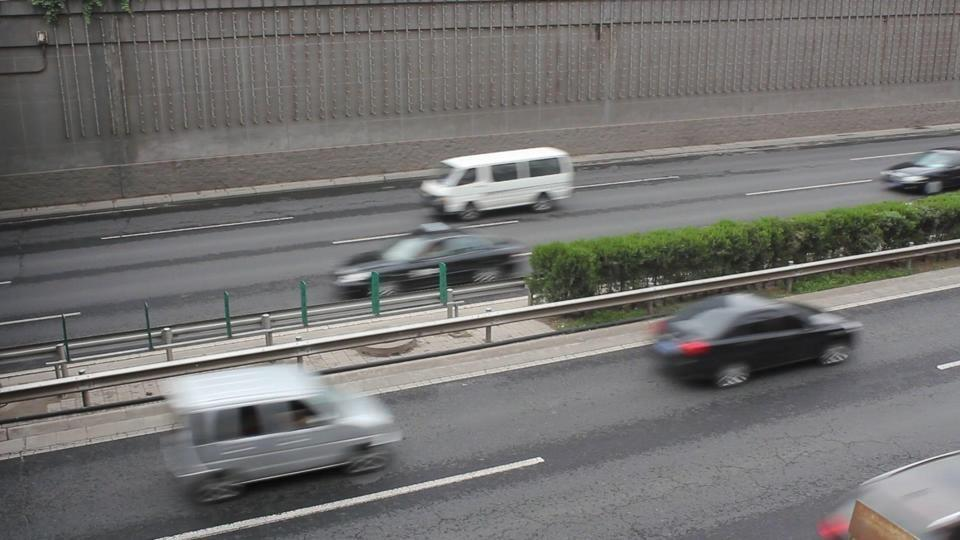car: (158, 362, 405, 504), (648, 292, 864, 390), (332, 228, 533, 297), (815, 448, 959, 537), (418, 146, 575, 219), (880, 149, 960, 196)
